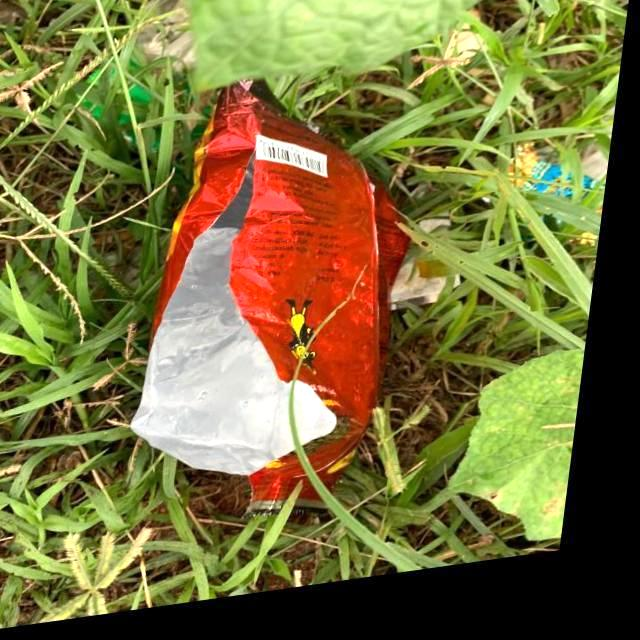packet: (117, 66, 448, 523)
